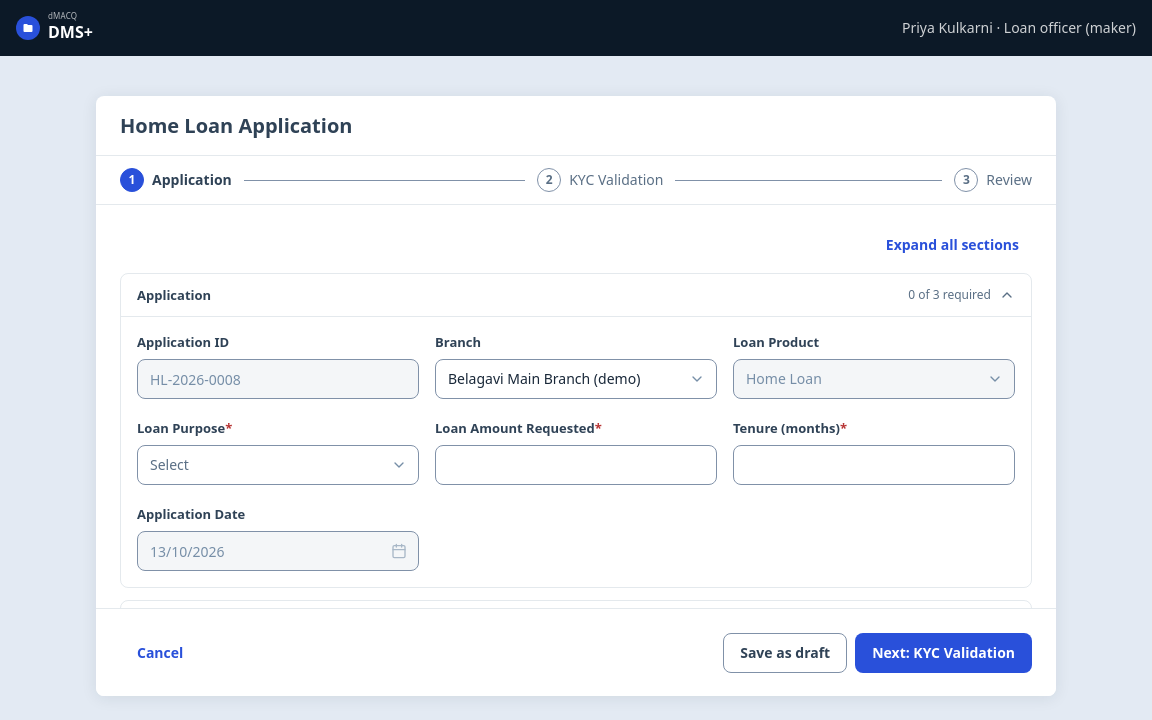
errors when the user leaves a field › {}: 12345
Click the button "Expand all sections": (952, 245) [873,229,1032,261]
(page scrolled)
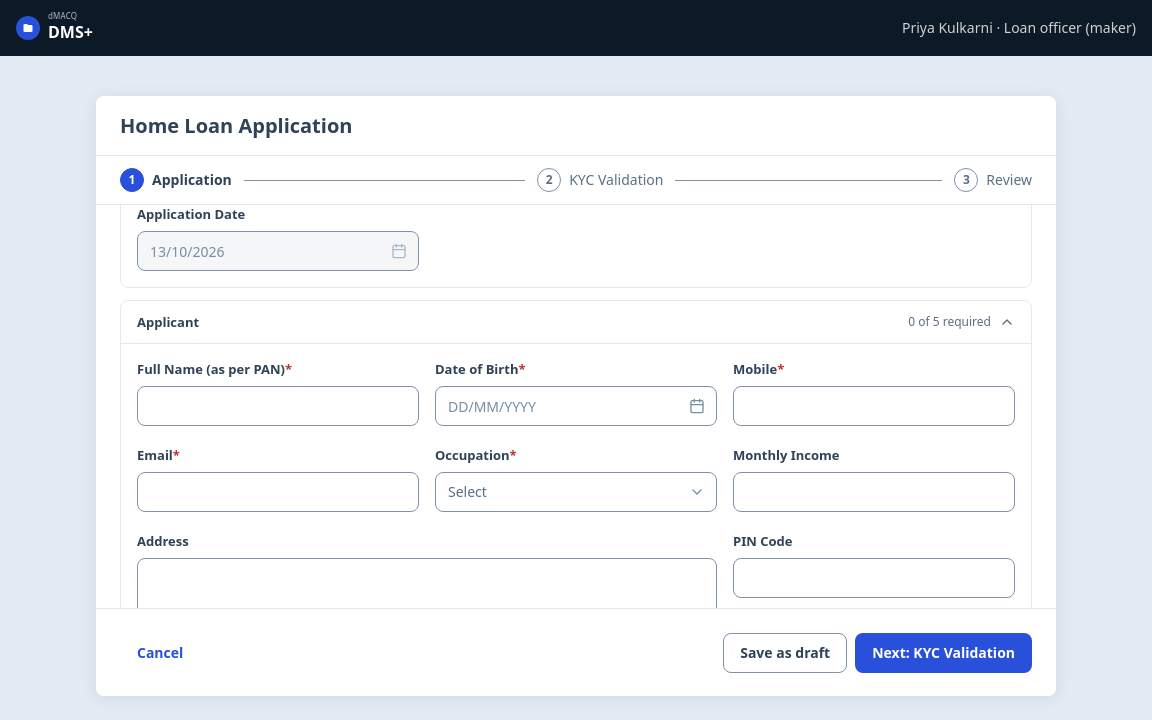
In the field labelled "Mobile*": (874, 406) [733,386,1015,426], type "12345"
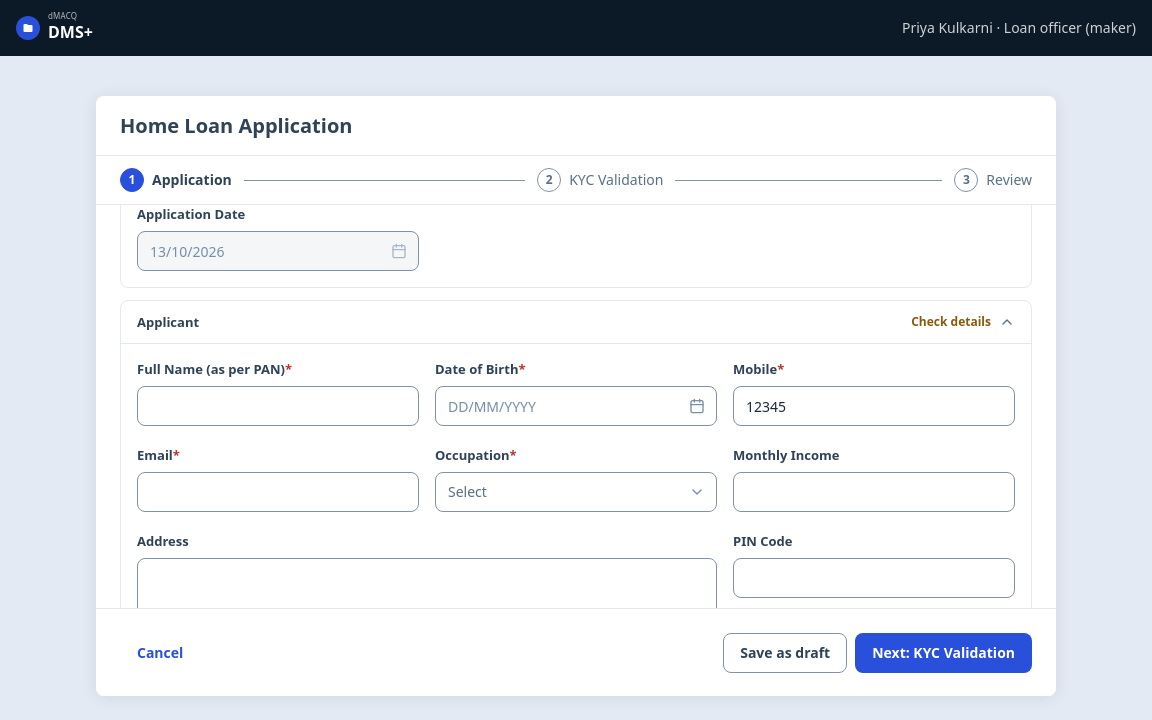
Leave the field labelled "Mobile*", box [733,386,1015,426]
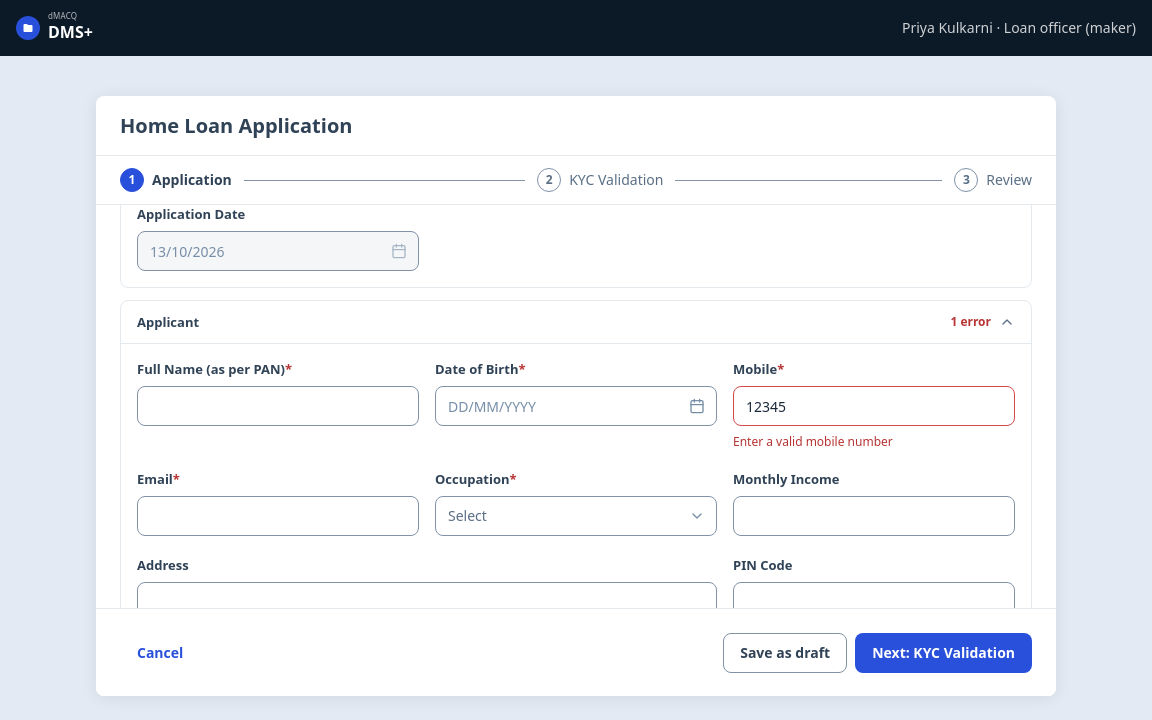
expect the message "Enter a valid mobile number" is shown: met, box [733,433,893,450]
